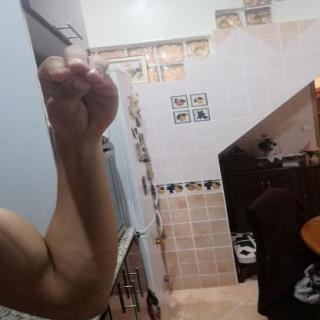HA: (26, 36, 133, 150)
